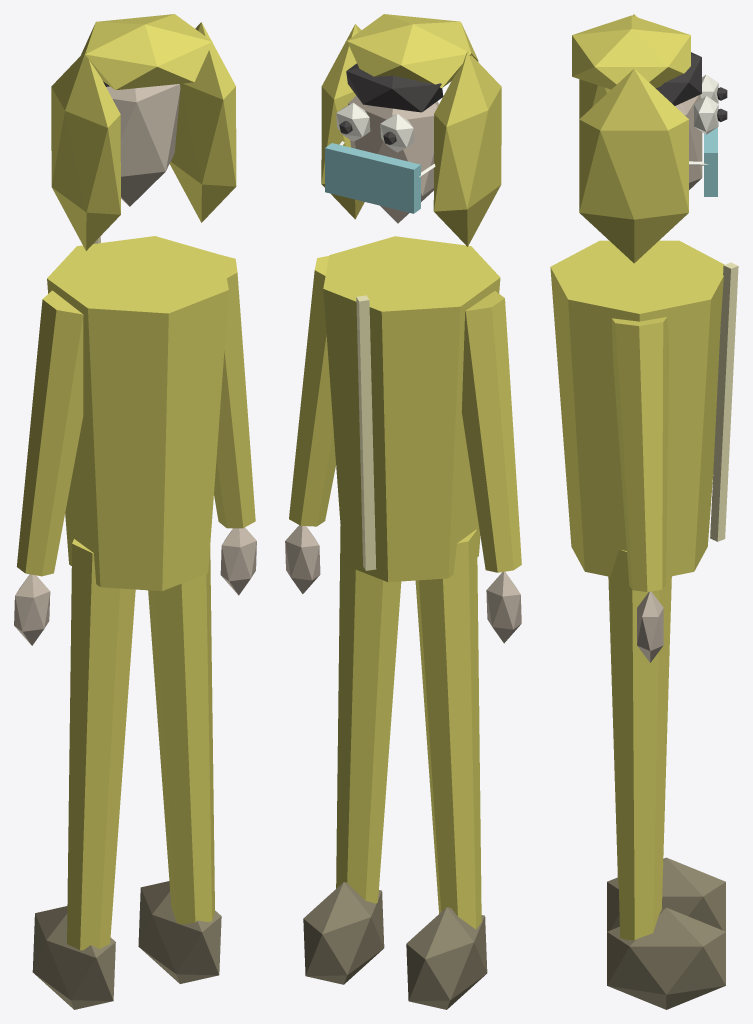
File: Scientist.fbx
3 renders of one model, left to right at view 1: azimuth 30°, elevation 25°; view 2: azimuth 150°, elevation 25°; view 3: azimuth 270°, elevation 25°, orthographic. The views are drawn at different scales.
Parts seen in each view (by area): view 1: Torso, Trouser1, Trouser-1, Sleeve1, HoodSide1, HoodSide-1, HoodTop, Sleeve-1, Face, Boot1, Boot-1, Hand1 (+1 smaller); view 2: Torso, Trouser1, Trouser-1, Sleeve1, HoodSide1, Sleeve-1, HoodTop, Boot1, Boot-1, Mask, Zip, Face (+6 smaller); view 3: Torso, Trouser-1, HoodSide-1, Sleeve-1, Boot-1, HoodTop, Zip, Boot1, Hand-1, Hair, Face, Mask (+3 smaller).
Part boxes in pixels (x1,y1,x2,y2): Torso: [47, 236, 228, 591]; Trouser1: [67, 539, 135, 950]; Trouser-1: [148, 546, 214, 924]; Sleeve1: [16, 290, 83, 576]; HoodSide1: [51, 50, 120, 250]; HoodSide-1: [169, 22, 236, 222]; HoodTop: [81, 14, 212, 90]; Sleeve-1: [214, 255, 255, 528]; Face: [106, 84, 180, 206]; Boot1: [32, 906, 115, 1009]; Boot-1: [138, 881, 221, 983]; Hand1: [14, 574, 50, 645]; Torso: [323, 236, 500, 582]; Trouser1: [415, 529, 481, 929]; Trouser-1: [336, 526, 401, 903]; Sleeve1: [461, 291, 521, 572]; HoodSide1: [433, 51, 501, 246]; Sleeve-1: [289, 256, 335, 526]; HoodTop: [347, 14, 478, 88]; Boot1: [406, 907, 487, 1009]; Boot-1: [303, 882, 384, 984]; Mask: [325, 143, 420, 213]; Zip: [356, 295, 376, 570]; Face: [348, 96, 438, 223]; Torso: [550, 240, 724, 577]; Trouser-1: [610, 549, 671, 940]; HoodSide-1: [579, 69, 688, 263]; Sleeve-1: [611, 317, 668, 591]; Boot-1: [607, 907, 725, 1009]; HoodTop: [572, 15, 690, 89]; Zip: [710, 262, 738, 541]; Boot1: [607, 857, 725, 931]; Hand-1: [637, 591, 663, 662]; Hair: [656, 52, 701, 105]; Face: [675, 94, 702, 189]; Mask: [704, 127, 717, 196].
Size of the model in its own units: 0.5016 by 1.96 by 0.3497.
